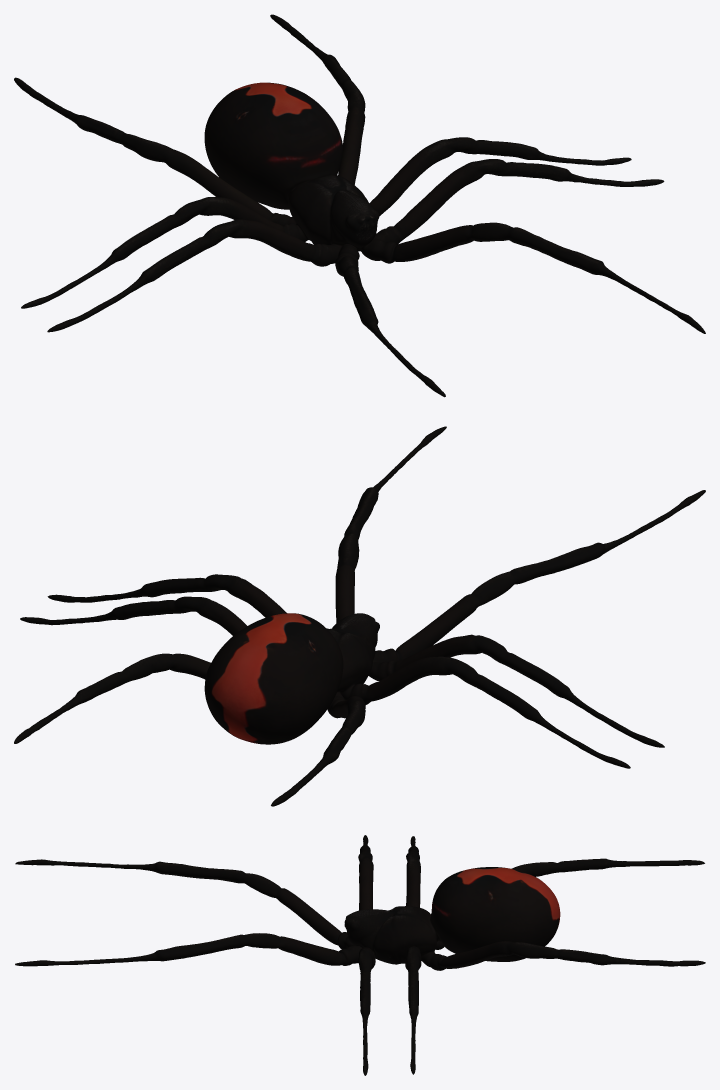
Rendered from BlackWidow.glb.
3 renders of one model, top to bottom at view 1: azimuth 30°, elevation 25°; view 2: azimuth 150°, elevation 25°; view 3: azimuth 270°, elevation 25°, orthographic. The views are drawn at different scales.
Visible parts, largest first — view 1: model; view 2: model; view 3: model.
Part boxes in pixels (bbox=[...]): model: bbox=[14, 14, 705, 397]; model: bbox=[14, 426, 705, 806]; model: bbox=[15, 835, 705, 1075].
Bounding box in the file's own units: 1.56 × 0.272 × 1.9.
Materials: 1 (1 with a texture image).
